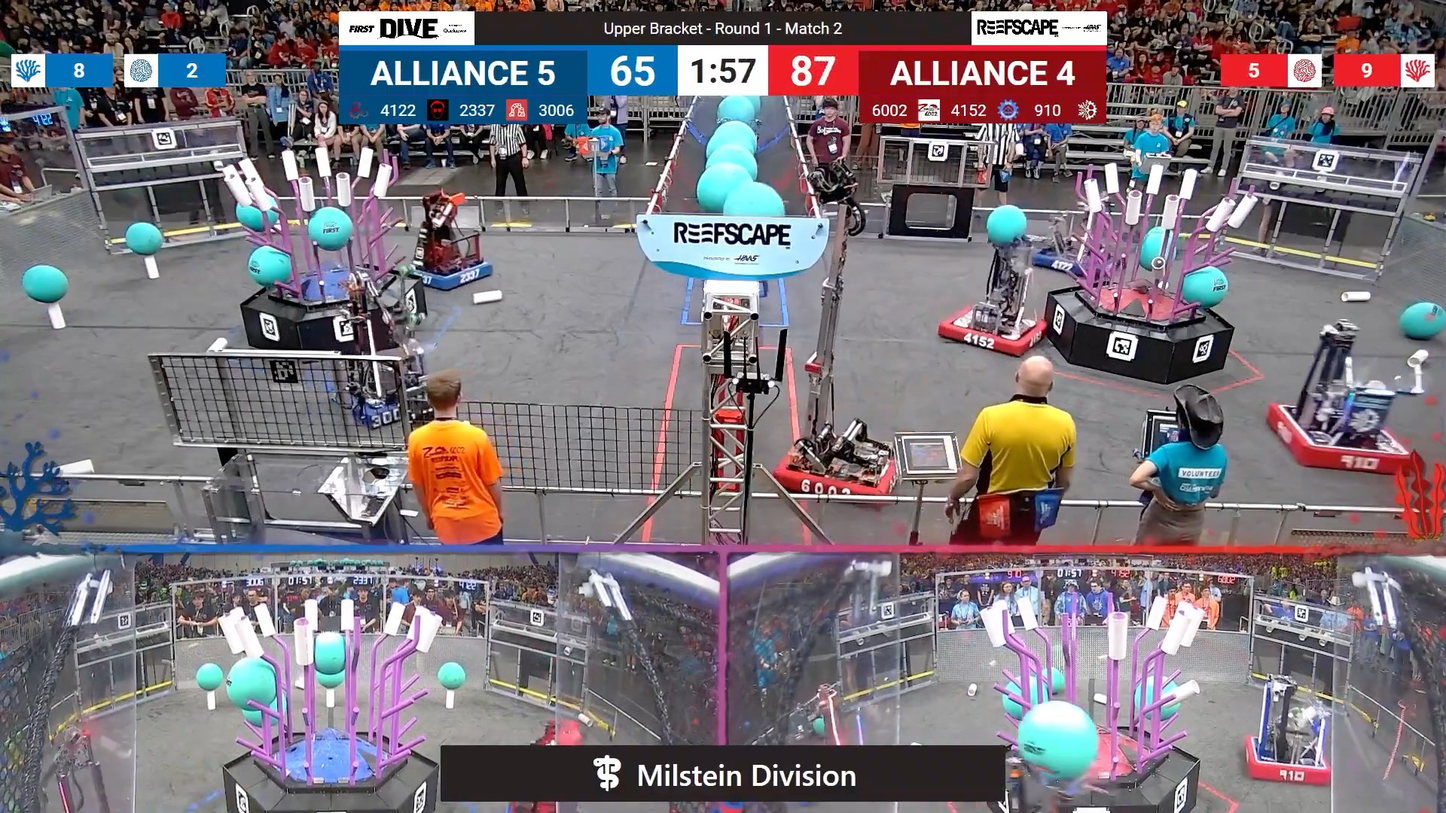bumpers: (1260, 400, 1415, 479), (323, 361, 452, 428), (767, 444, 902, 508), (932, 298, 1048, 357), (1237, 732, 1337, 792), (401, 256, 499, 292), (1027, 245, 1119, 277)
